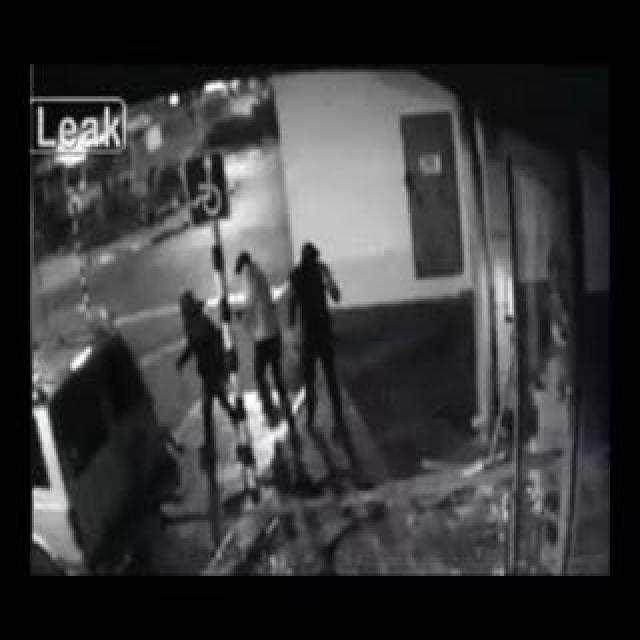thief: (165, 255, 362, 377)
